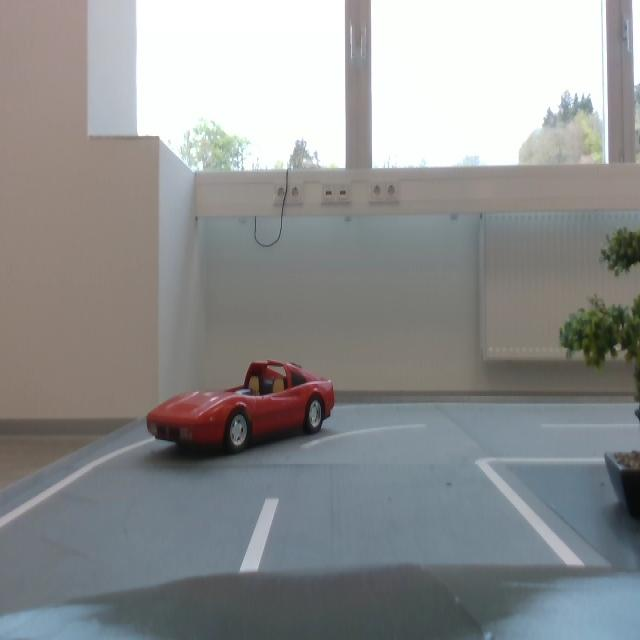car: (143, 351, 338, 456)
potted plant: (554, 223, 640, 449)
